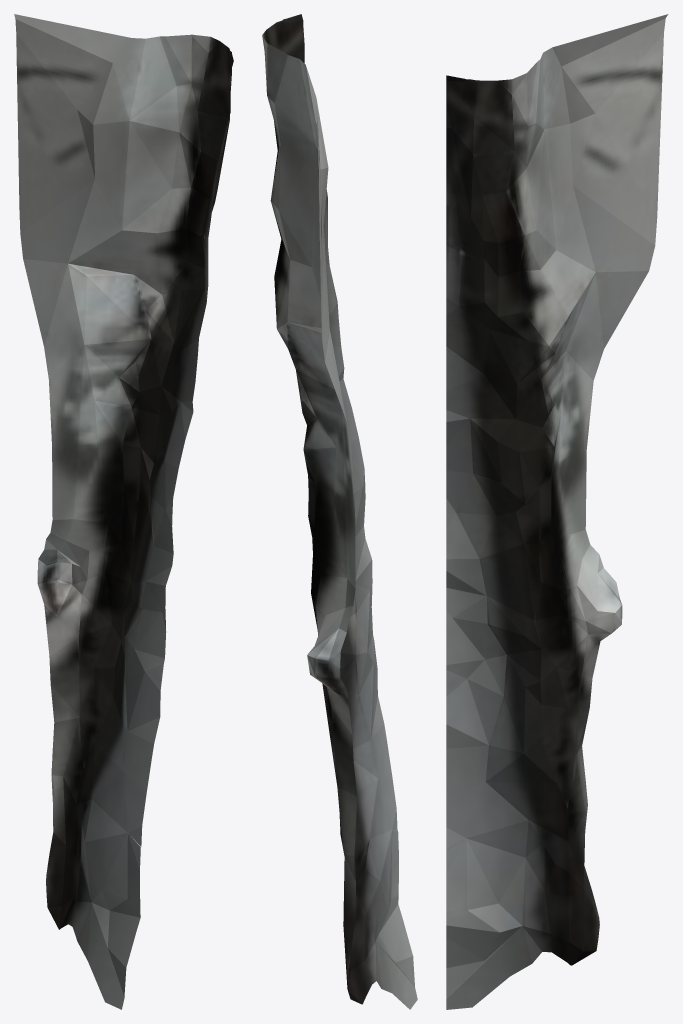
3 renders of one model, left to right at view 1: azimuth 30°, elevation 25°; view 2: azimuth 150°, elevation 25°; view 3: azimuth 270°, elevation 25°, orthographic. The views are drawn at different scales.
Bounding box in the file's own units: 0.2406 × 1.67 × 0.3392.
1 material, 1 textured.
